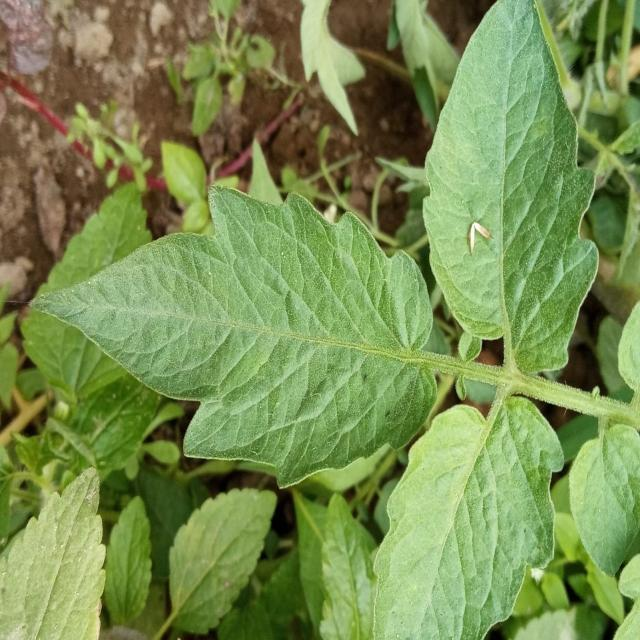Healthy: (33, 93, 499, 558), (419, 0, 599, 374), (374, 395, 563, 640)
